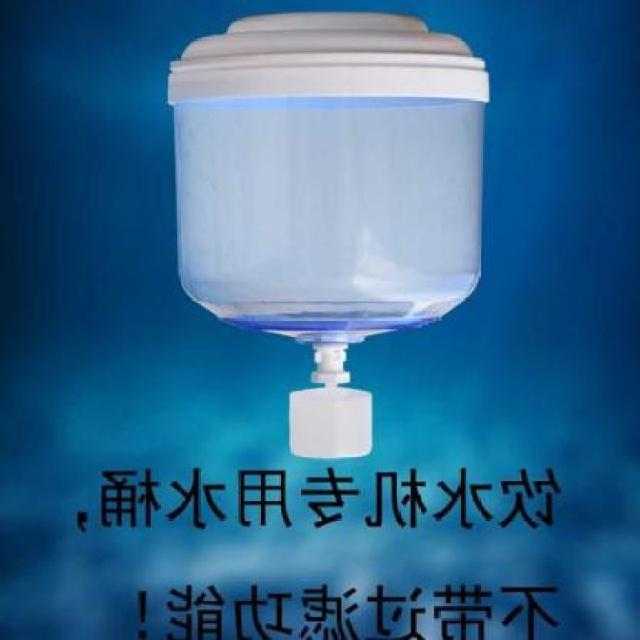coolerbottle: (164, 8, 496, 344)
